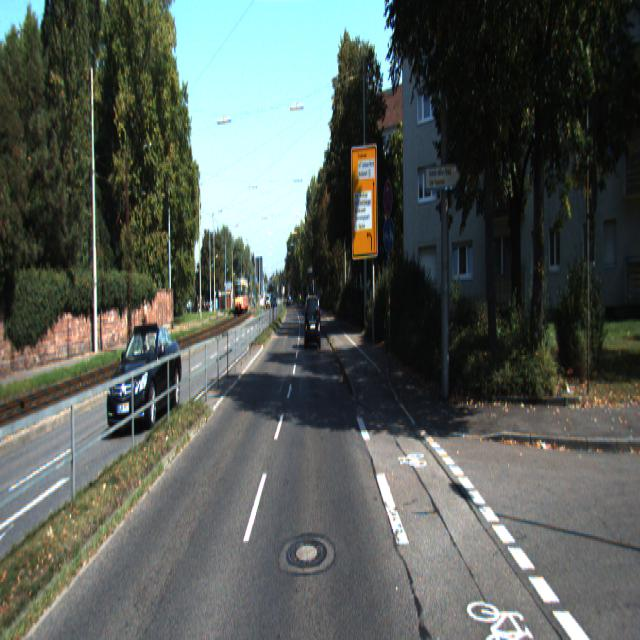Car: (106, 322, 184, 434), (304, 295, 322, 352), (234, 278, 248, 314)
